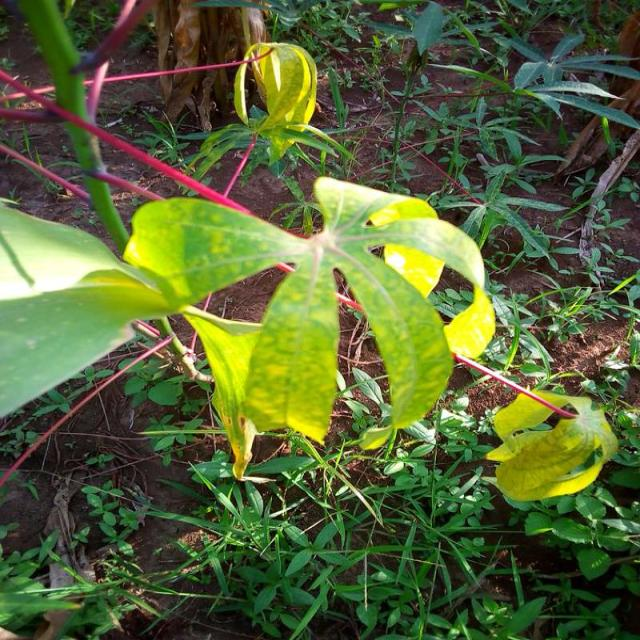cassava leaf: (122, 174, 492, 473), (1, 202, 171, 420), (486, 388, 619, 504)
